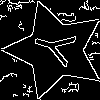Y: (30, 25, 86, 71)
